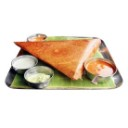dosa: (11, 38, 105, 77)
